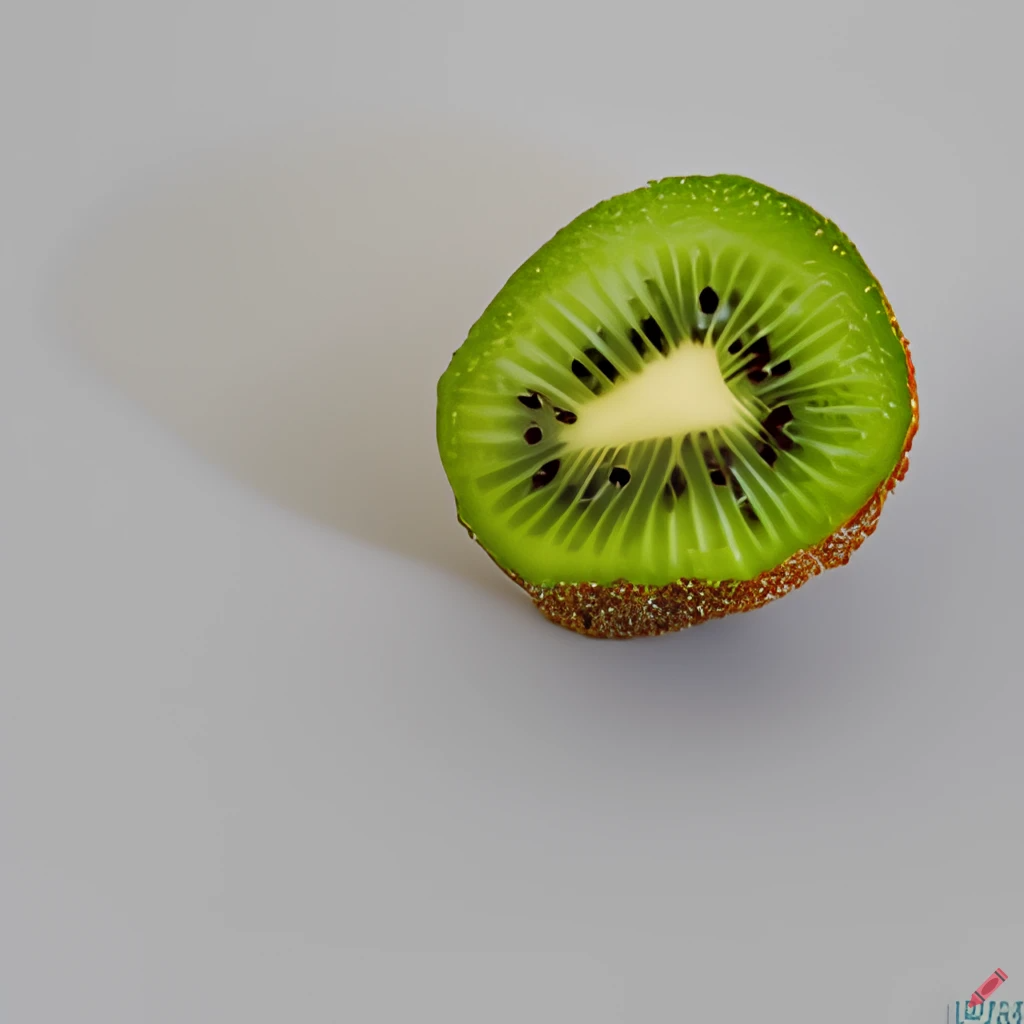Kiwi: (395, 162, 932, 644)
